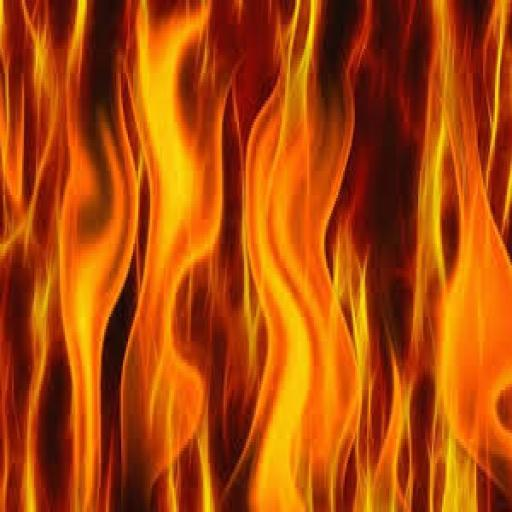fire: (3, 6, 512, 506)
